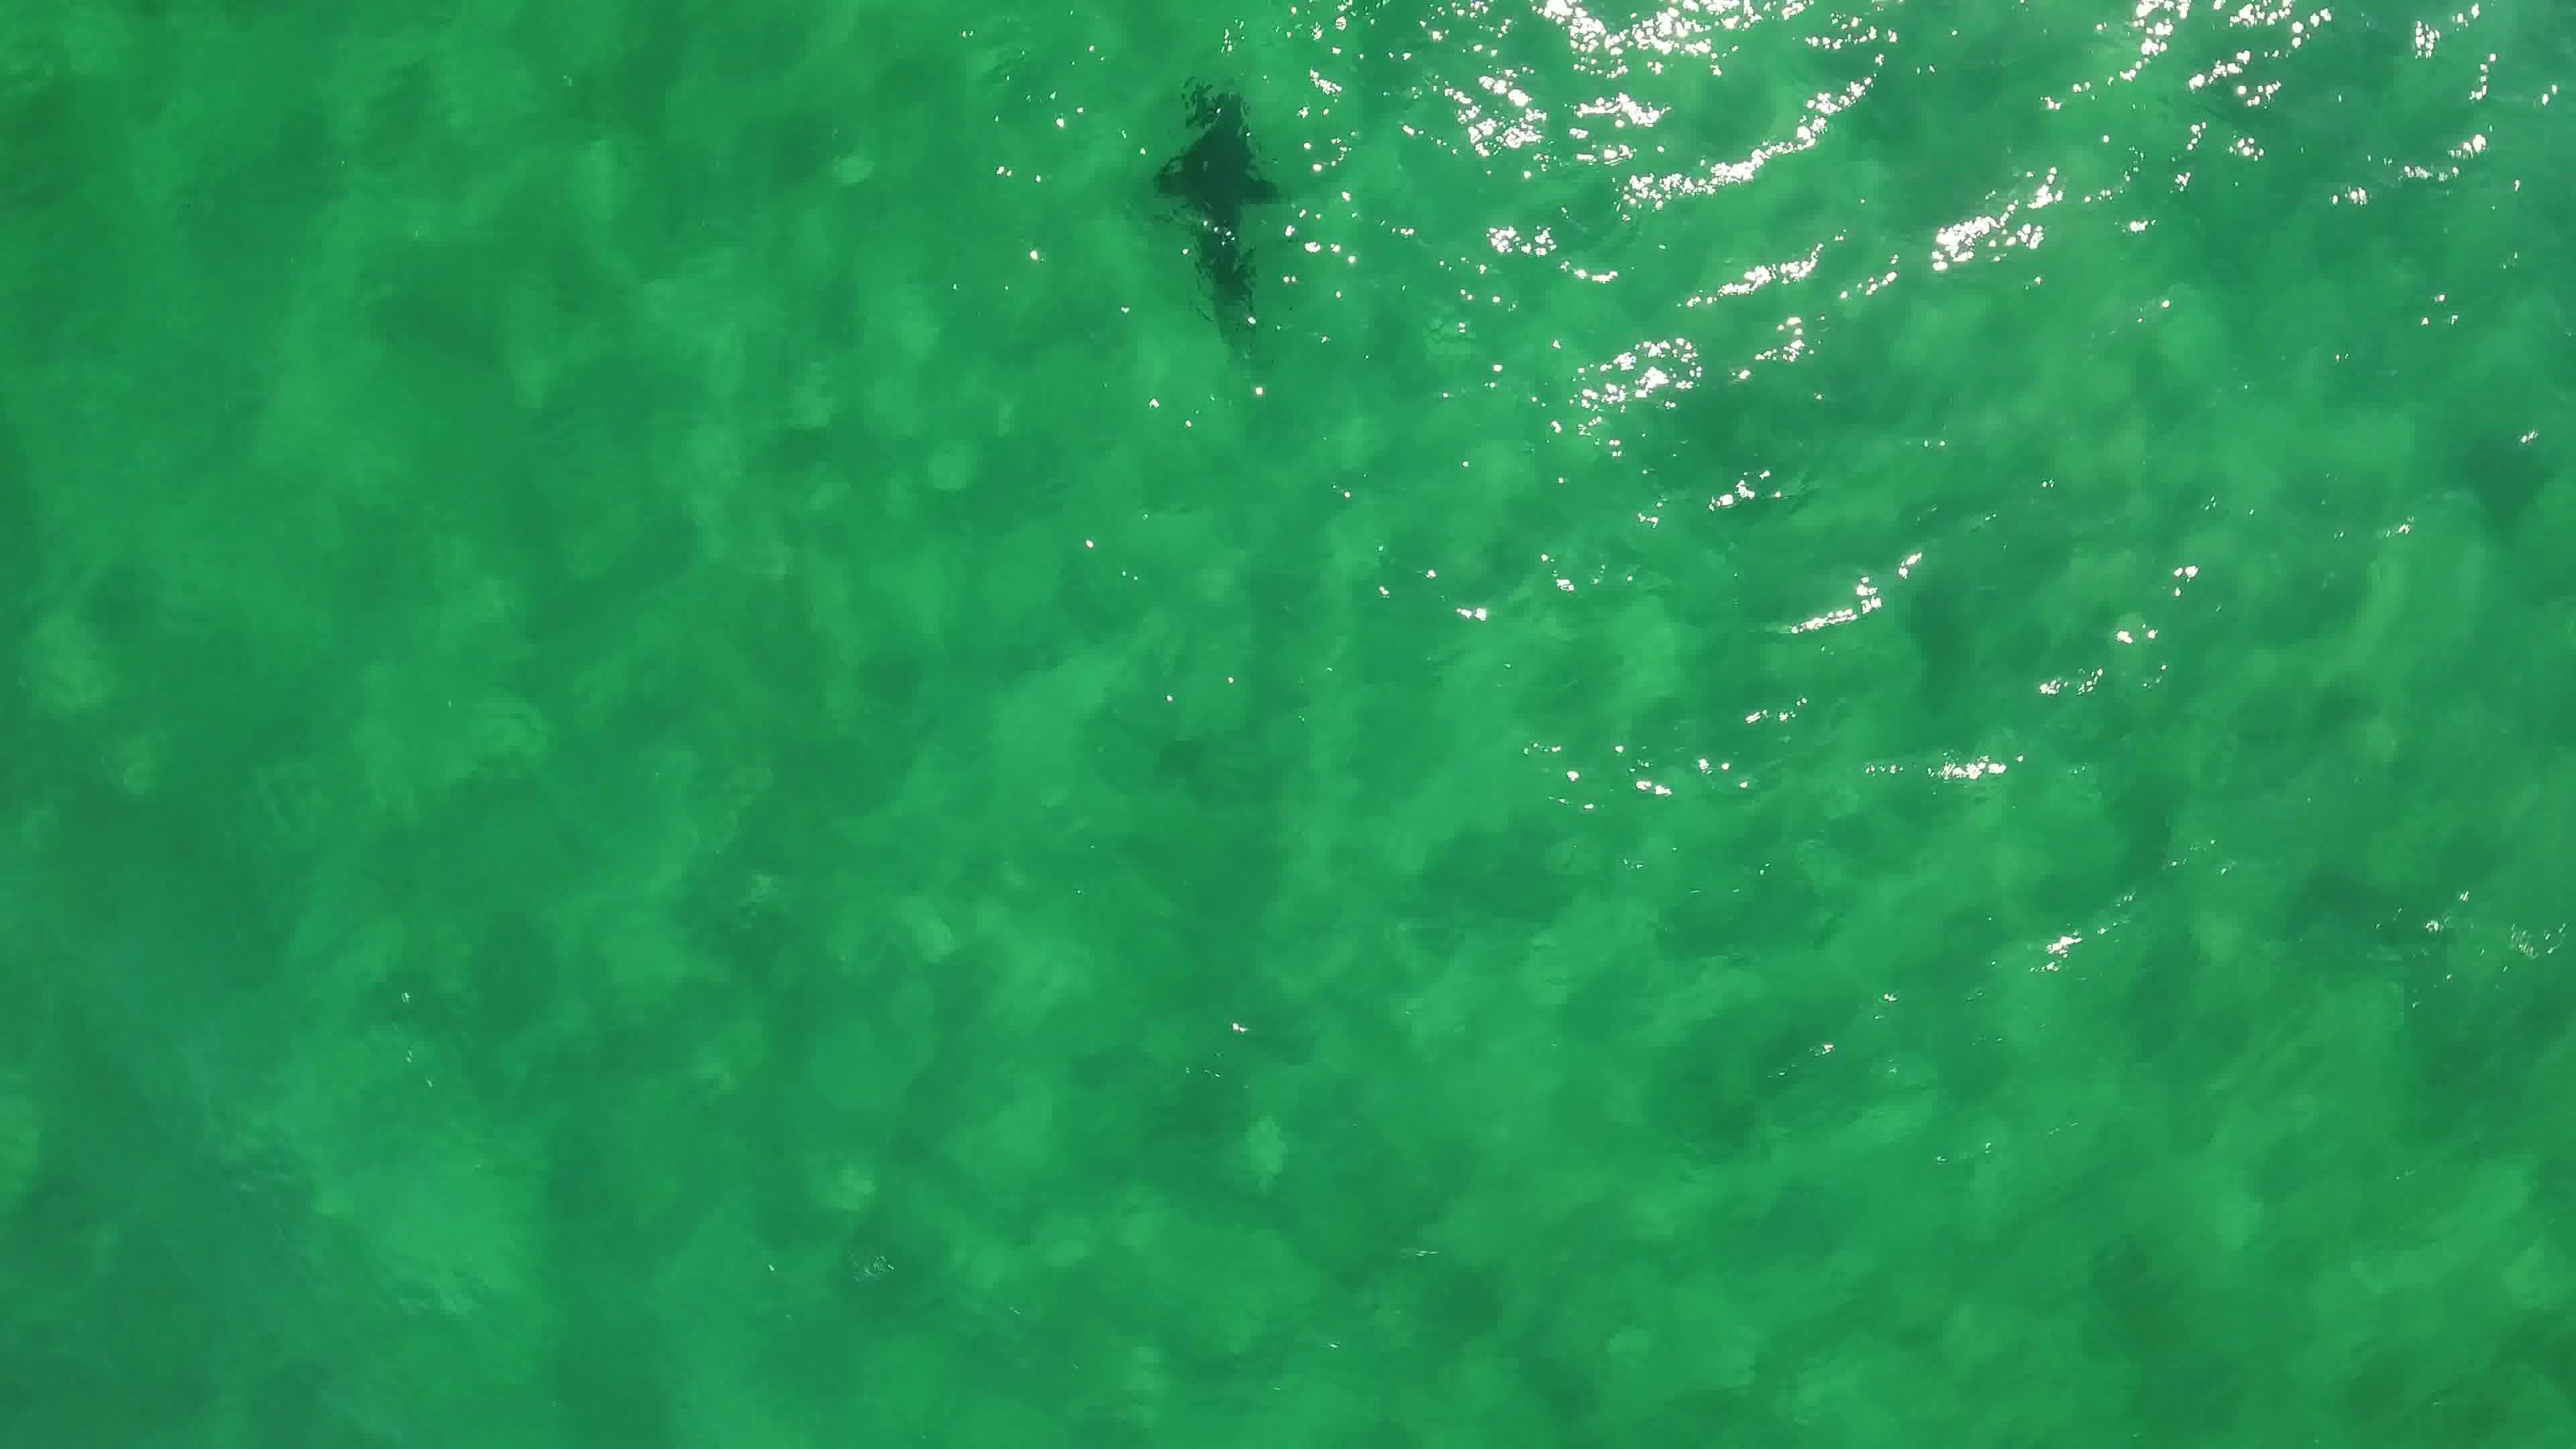shark: (1132, 67, 1297, 338)
